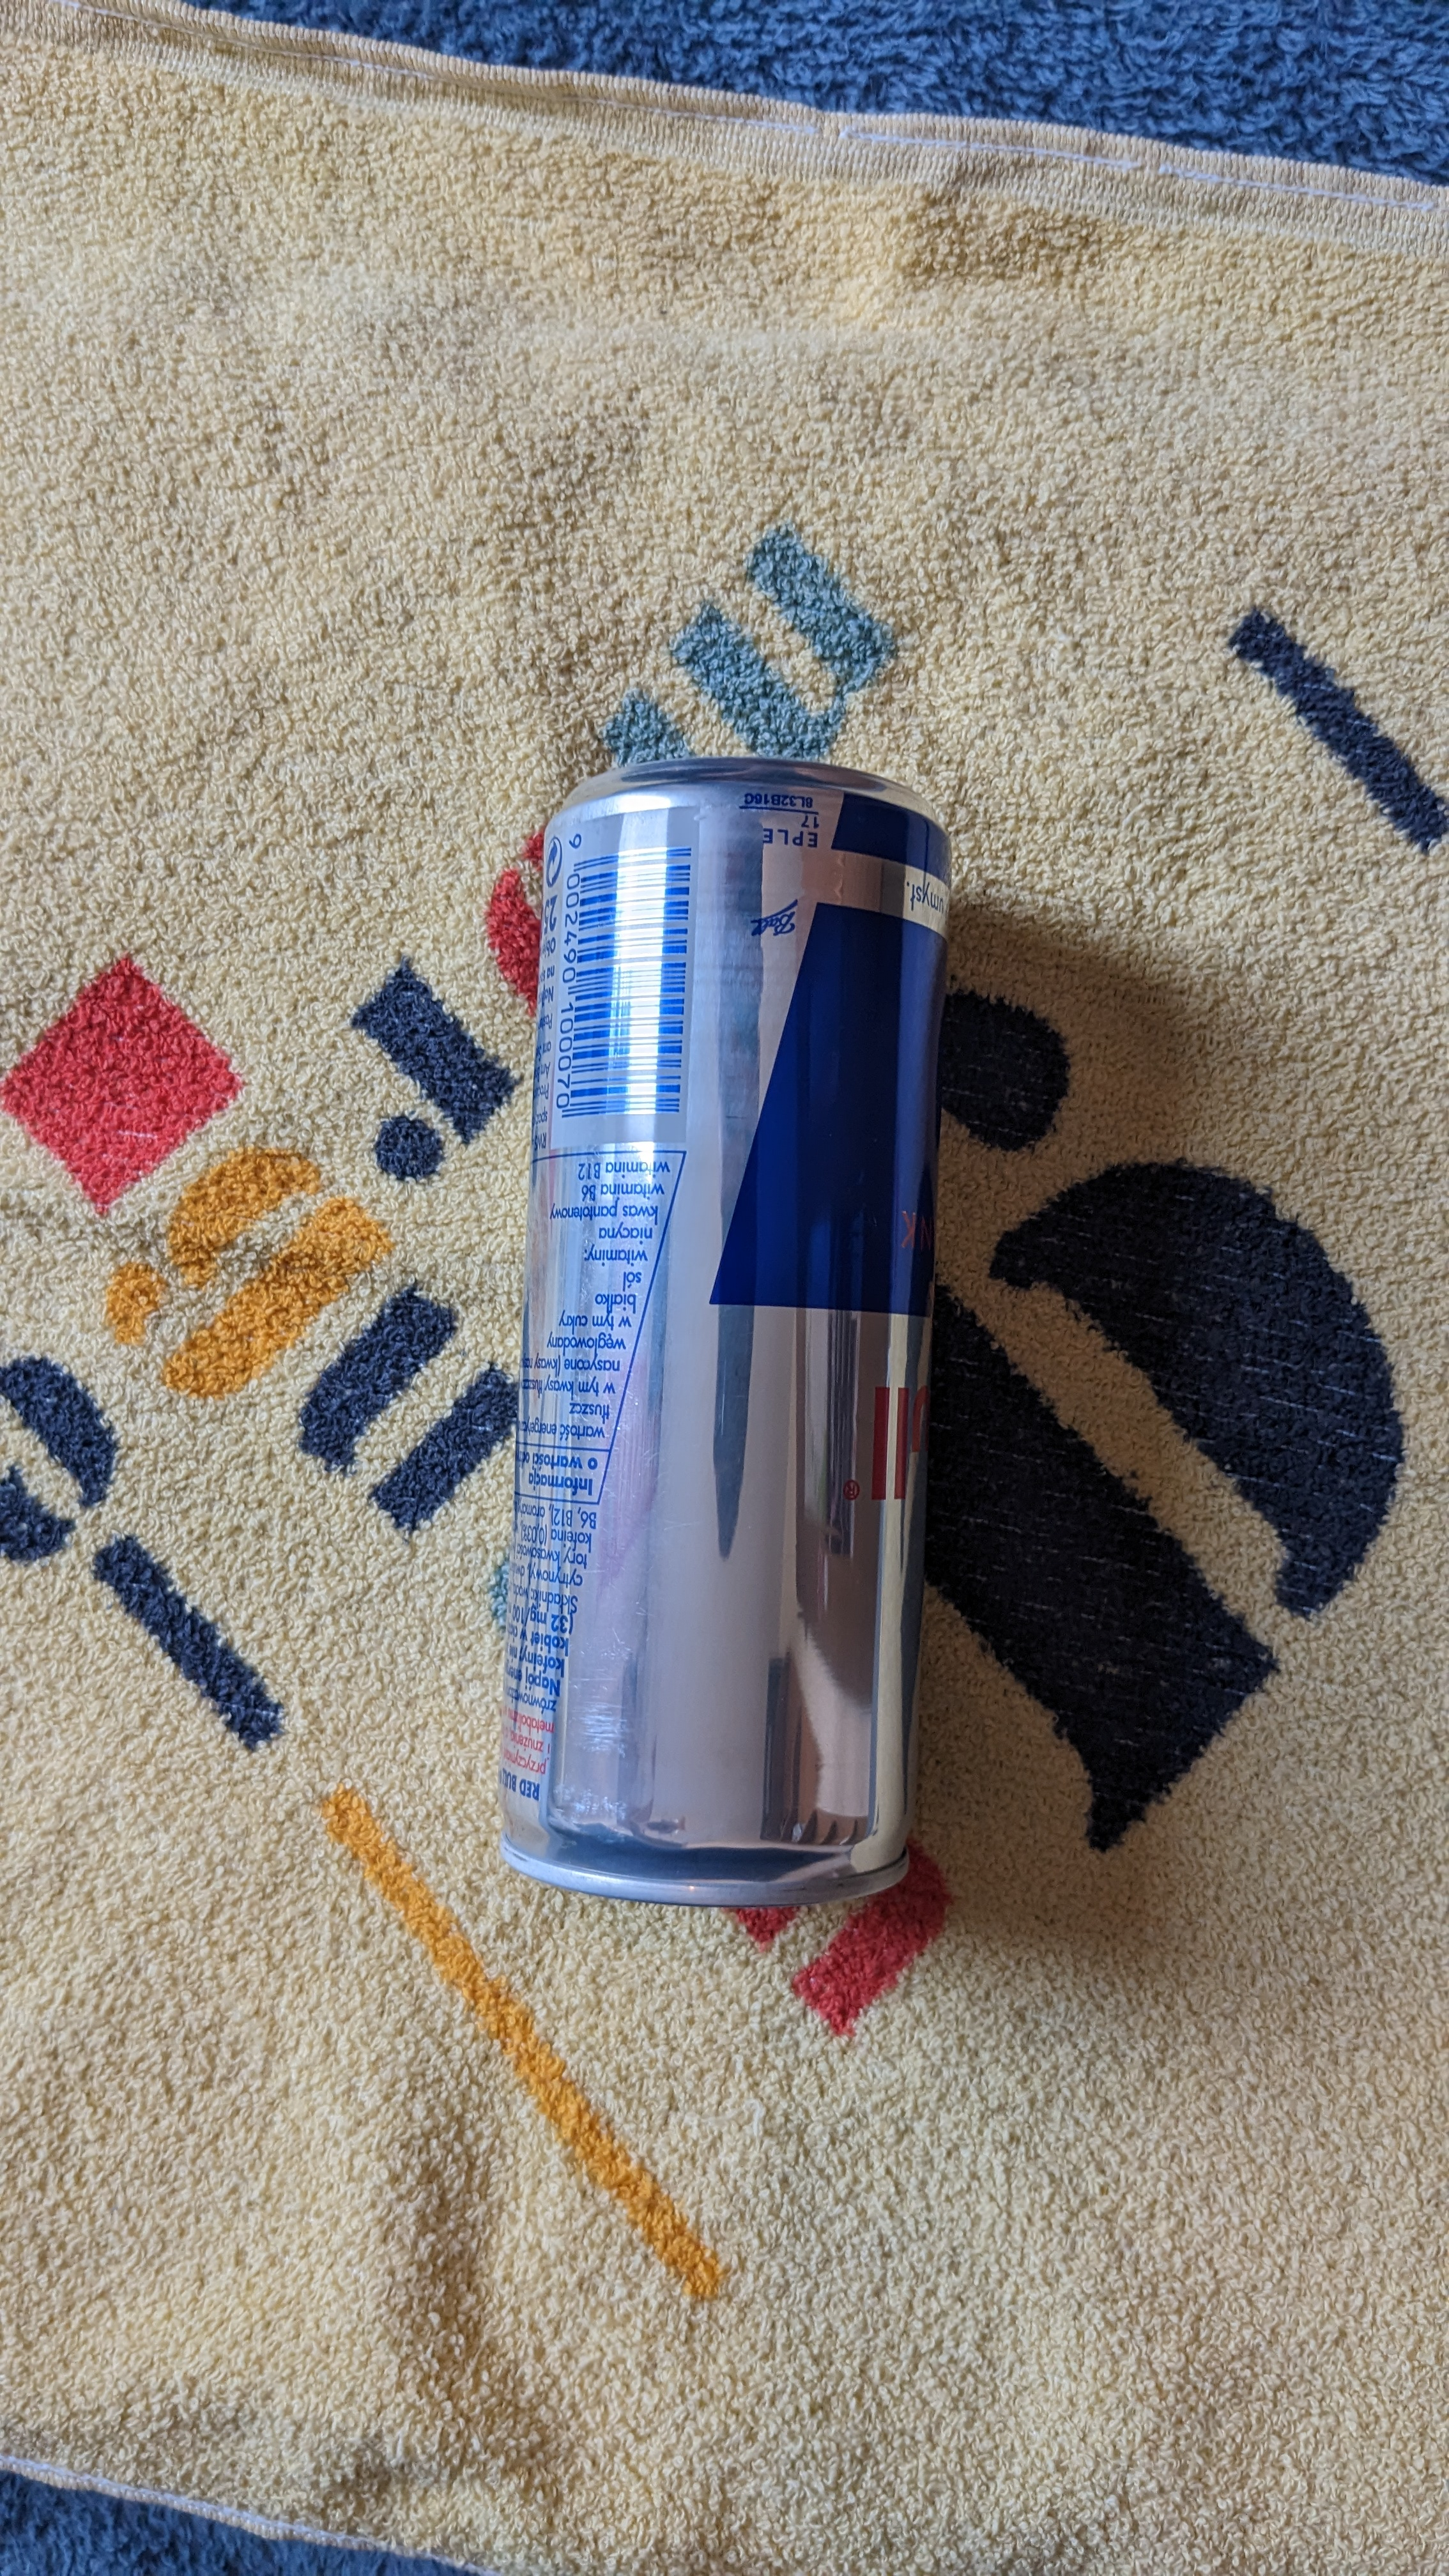red-bull: (446, 757, 1033, 1966)
